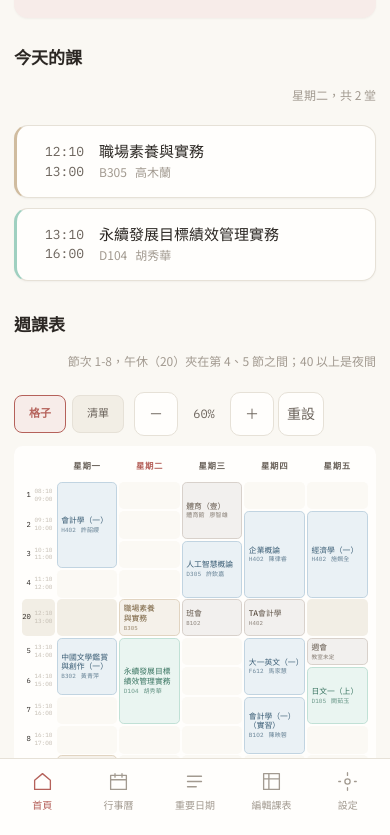
it: 格子課表的縮放 › 清單模式下不顯示縮放控制
(page scrolled)
Click the button "清單" at [98, 414], box x1=72 y1=395 x2=124 y2=433
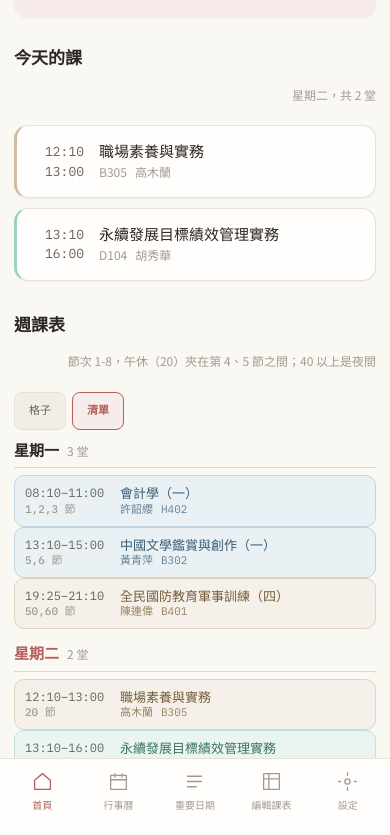
Expected: the button "課表放大" is gone
